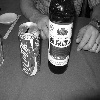beer: (16, 25, 43, 81)
